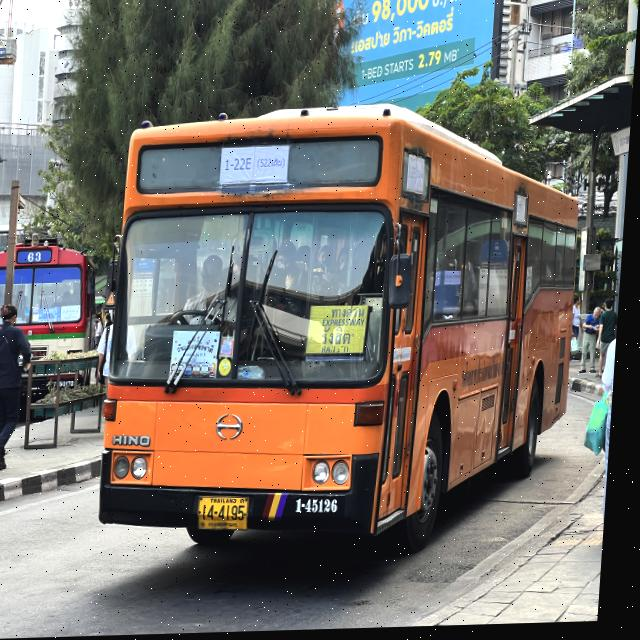BMTA-bus: (98, 103, 593, 562), (0, 239, 113, 417)
Bus-Line-Number: (221, 143, 294, 192), (29, 250, 47, 263)
Destination-Sign-Normal-Expressway: (306, 304, 374, 361)
